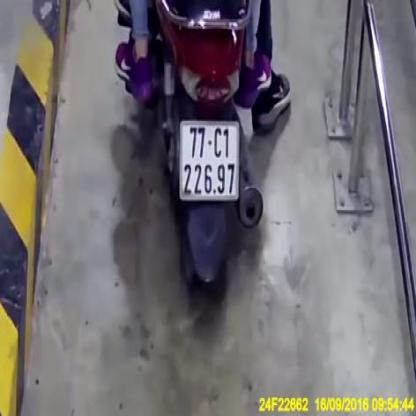Xemay: (179, 120, 240, 202)
